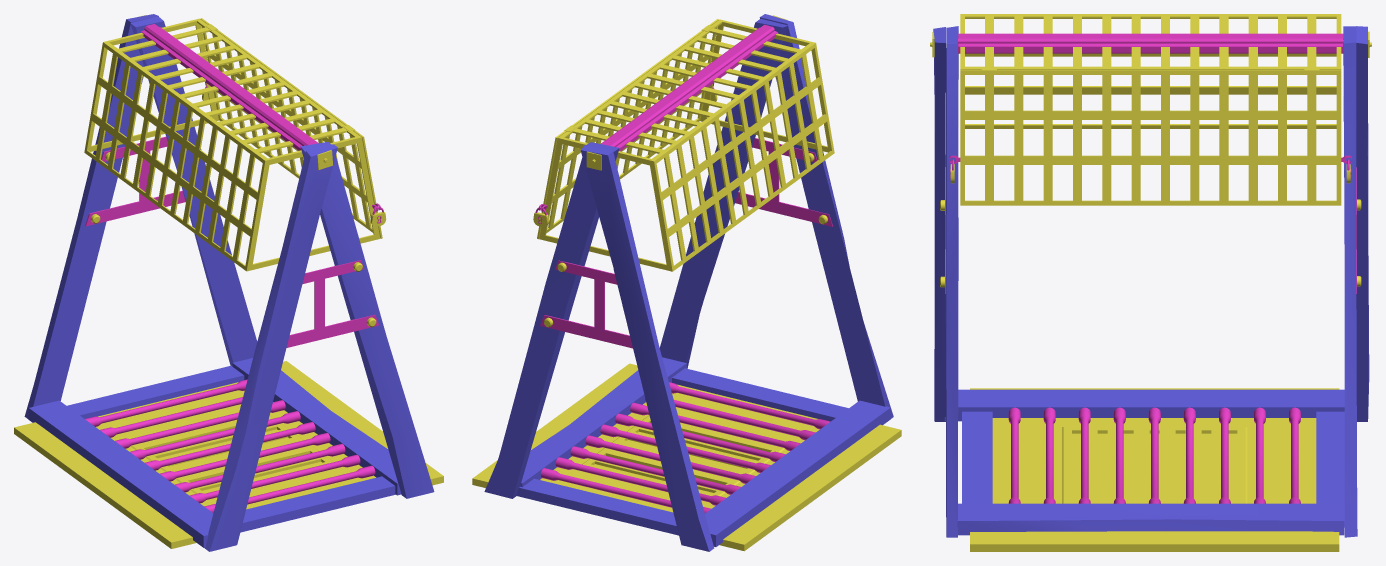
File: Axe_Blade_Support_01.fbx
3 renders of one model, left to right at view 1: azimuth 30°, elevation 25°; view 2: azimuth 150°, elevation 25°; view 3: azimuth 270°, elevation 25°, orthographic. The views are drawn at different scales.
Parts seen in each view (by area): view 1: Plane.005; view 2: Plane.005; view 3: Plane.005.
Part boxes in pixels (box(x1,y1,x2,y2)): Plane.005: box(14, 14, 443, 551); Plane.005: box(472, 14, 901, 551); Plane.005: box(930, 14, 1371, 551).
Size of the model in its own units: 88.23 by 116 by 106.
